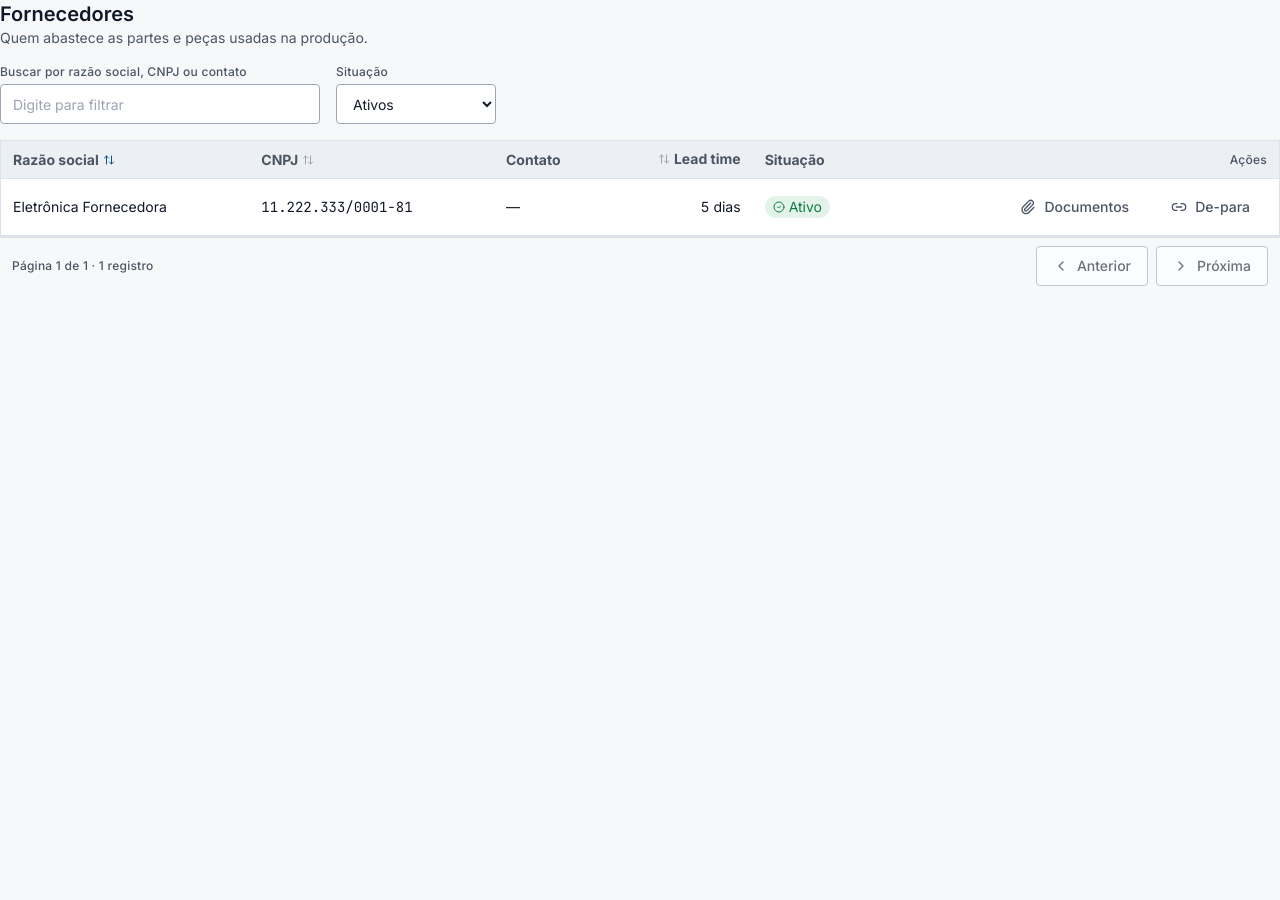
Scenario: Fornecedores — itens do fornecedor (de-para) › so com notas_entrada.visualizar a lista e so leitura
Click the button with aria-label "Itens do fornecedor (de-para) de Eletrônica". click: (1211, 207)
box: [1154,187,1267,227]
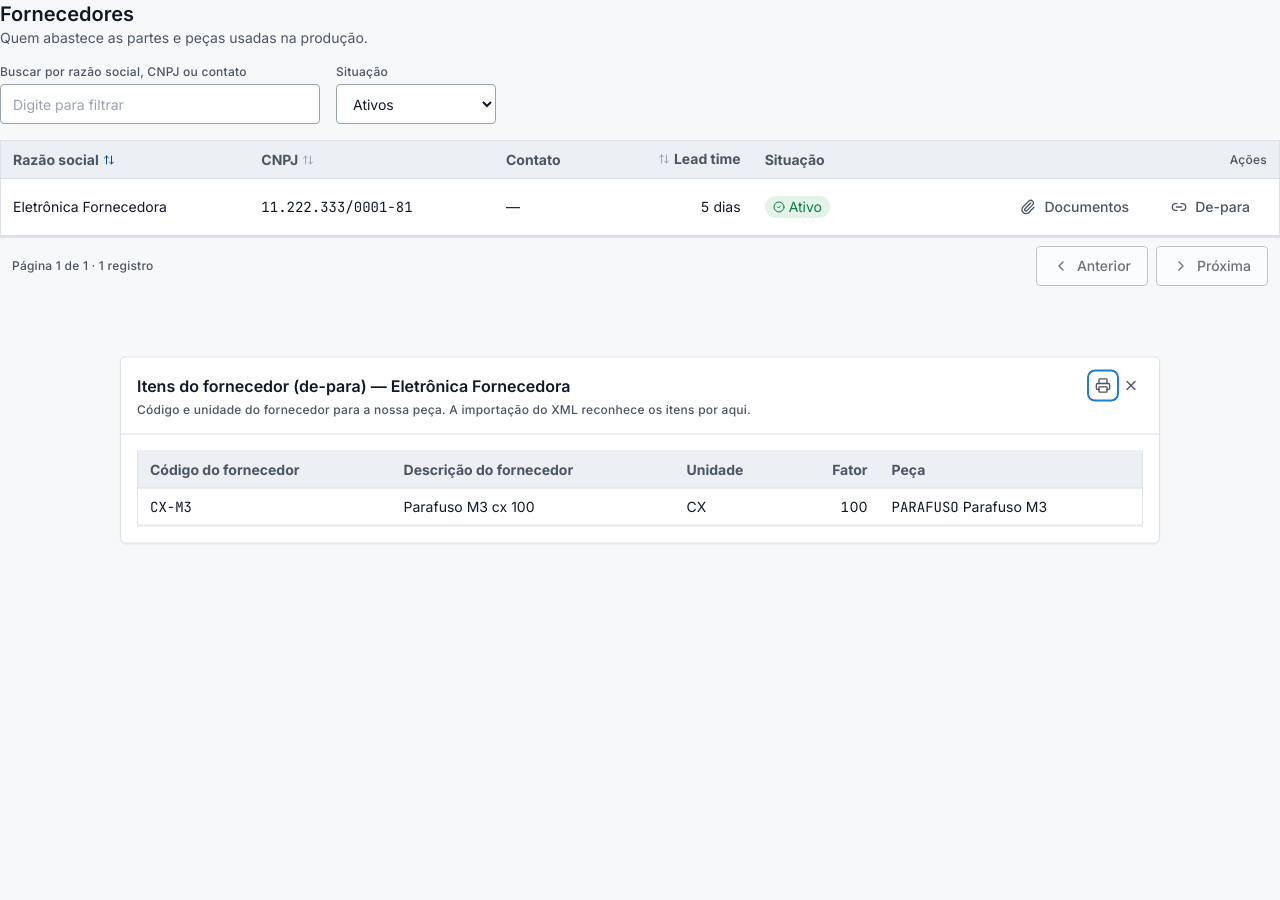
Result: the text "CX-M3" is shown at [150,498,192,516]
